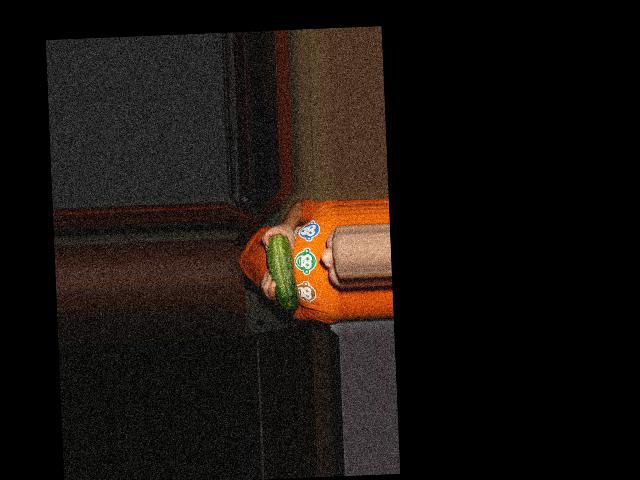cucumber: (266, 232, 299, 314)
